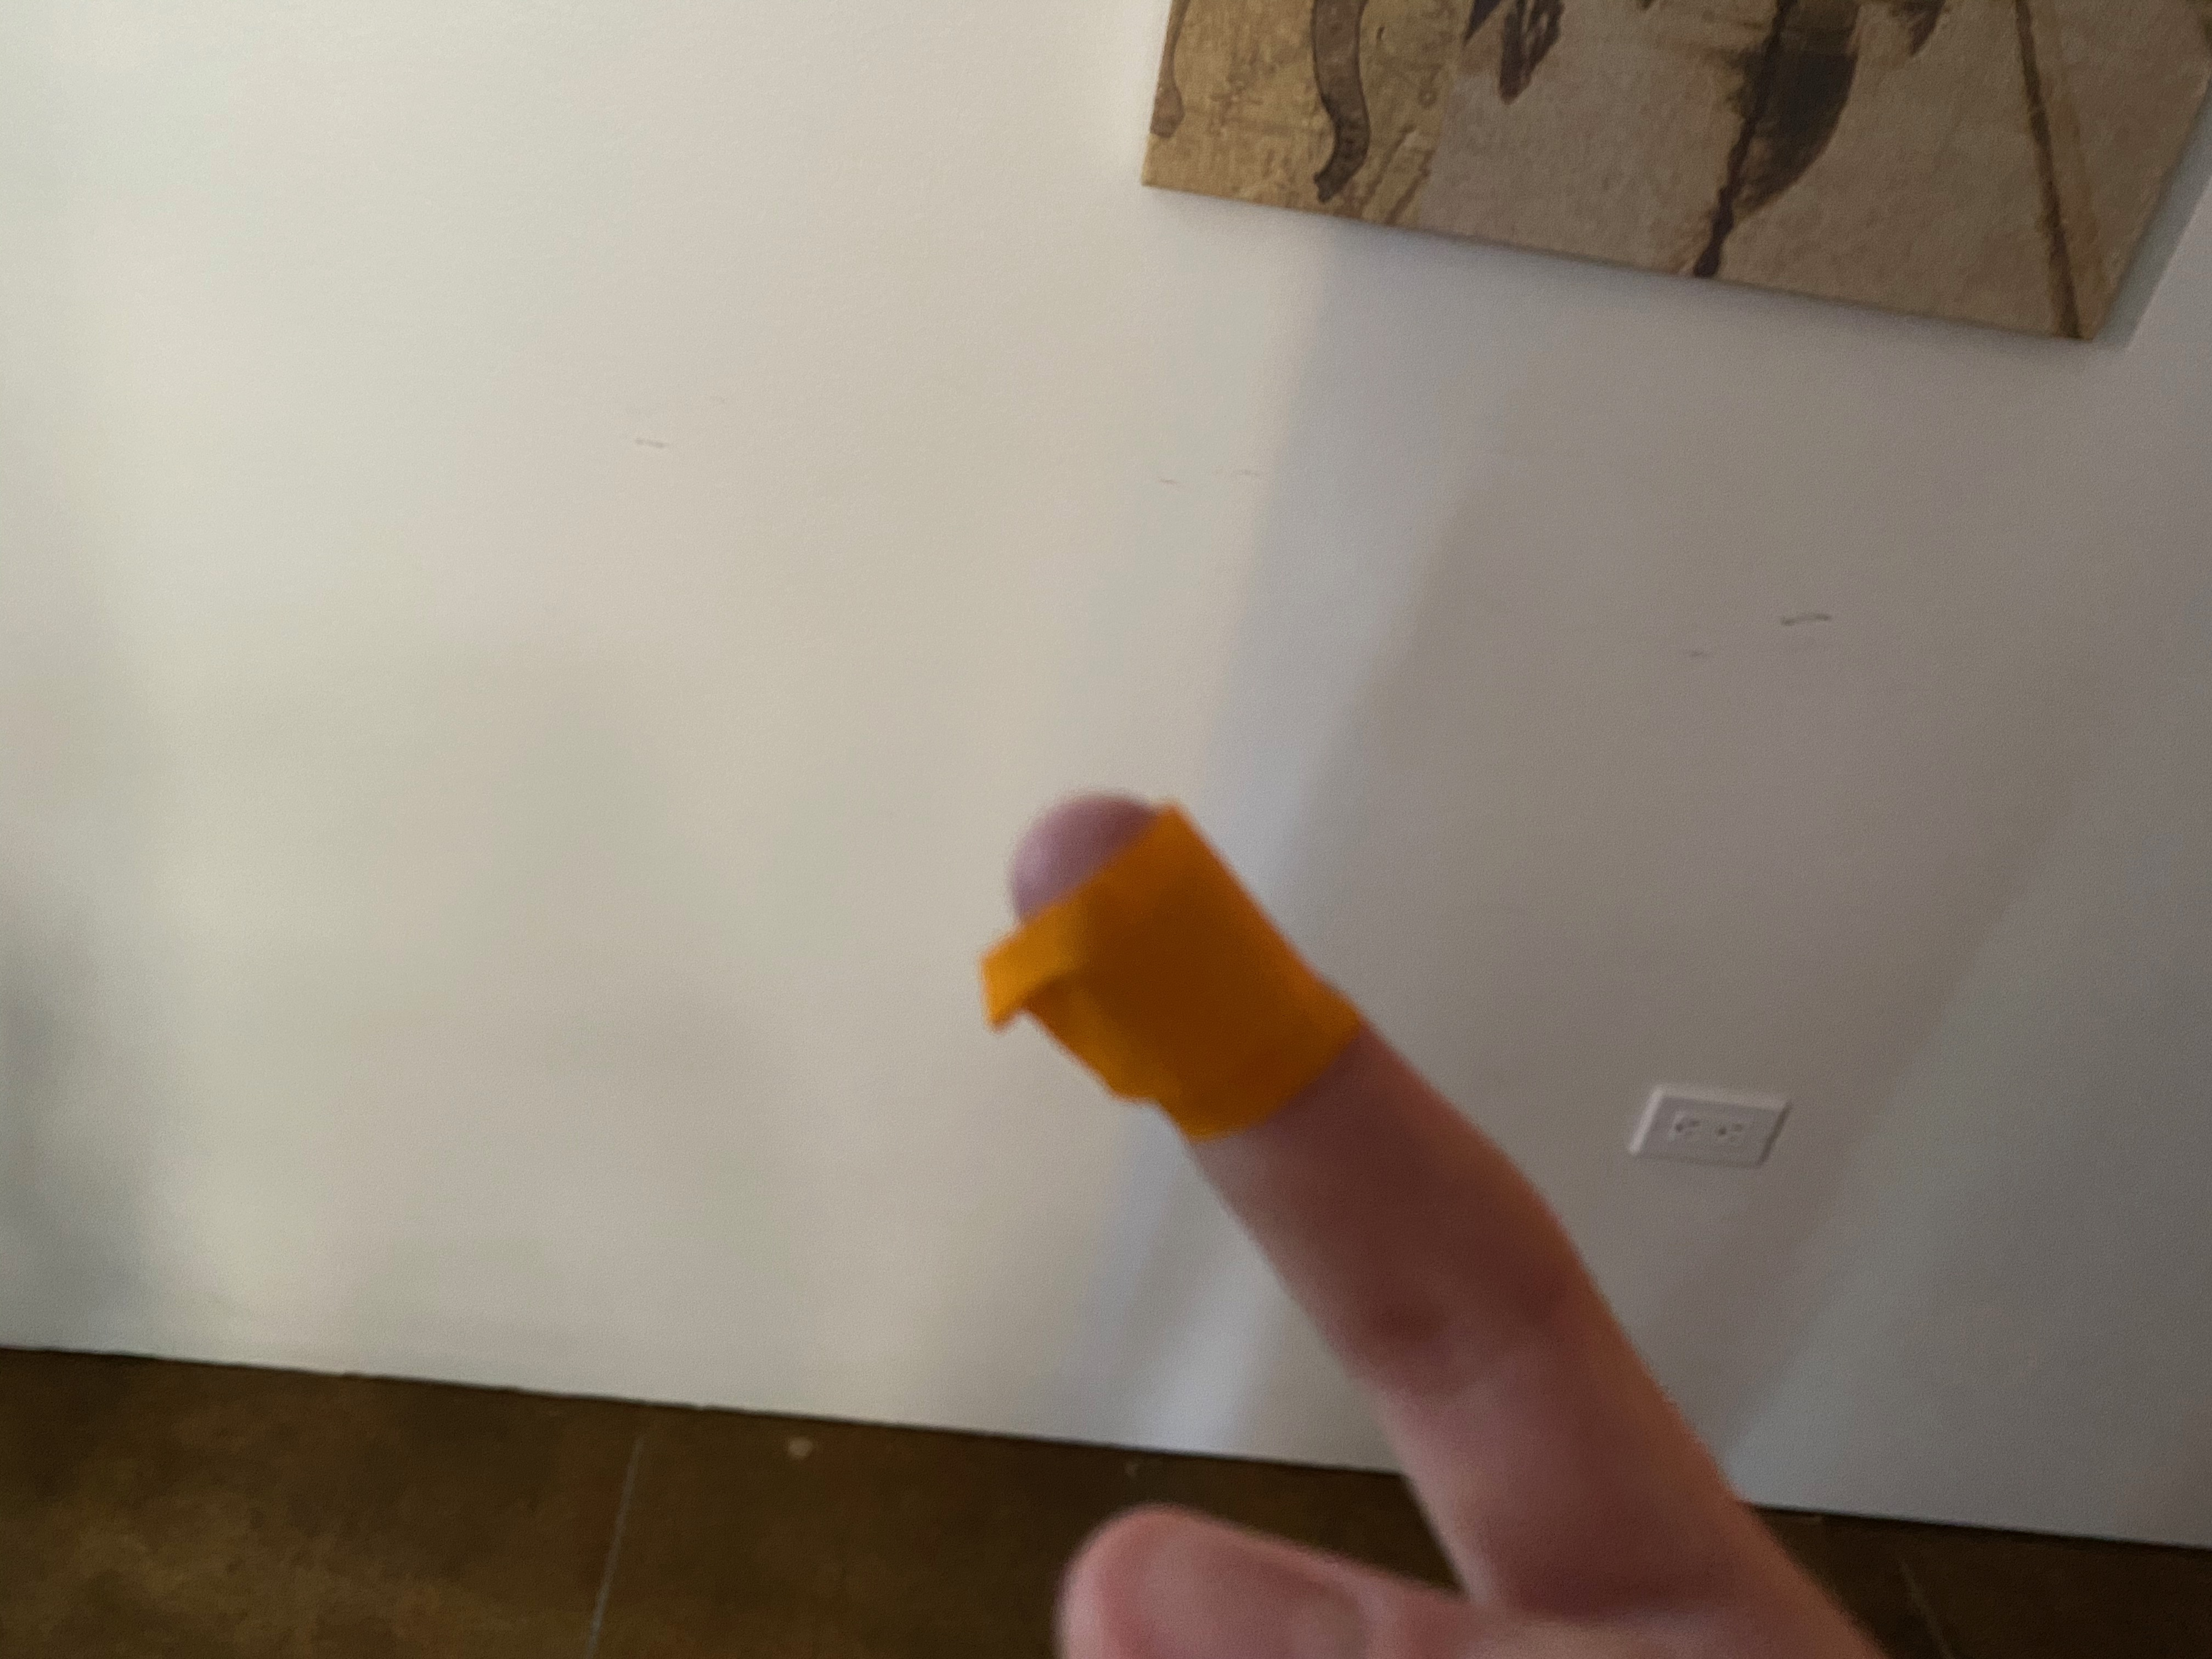fingertip: (954, 769, 1324, 1075)
